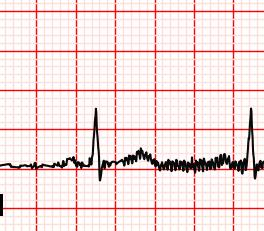ST Depression: (87, 159, 109, 184)
